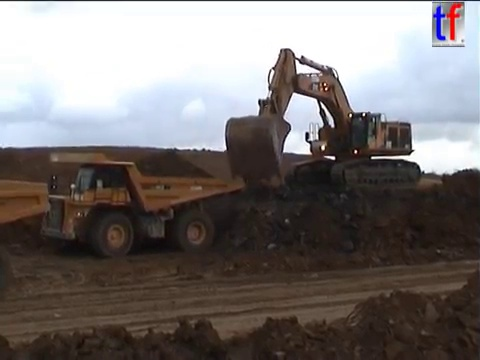excavator: (222, 46, 425, 194)
truck: (38, 150, 244, 260), (1, 176, 52, 300)
